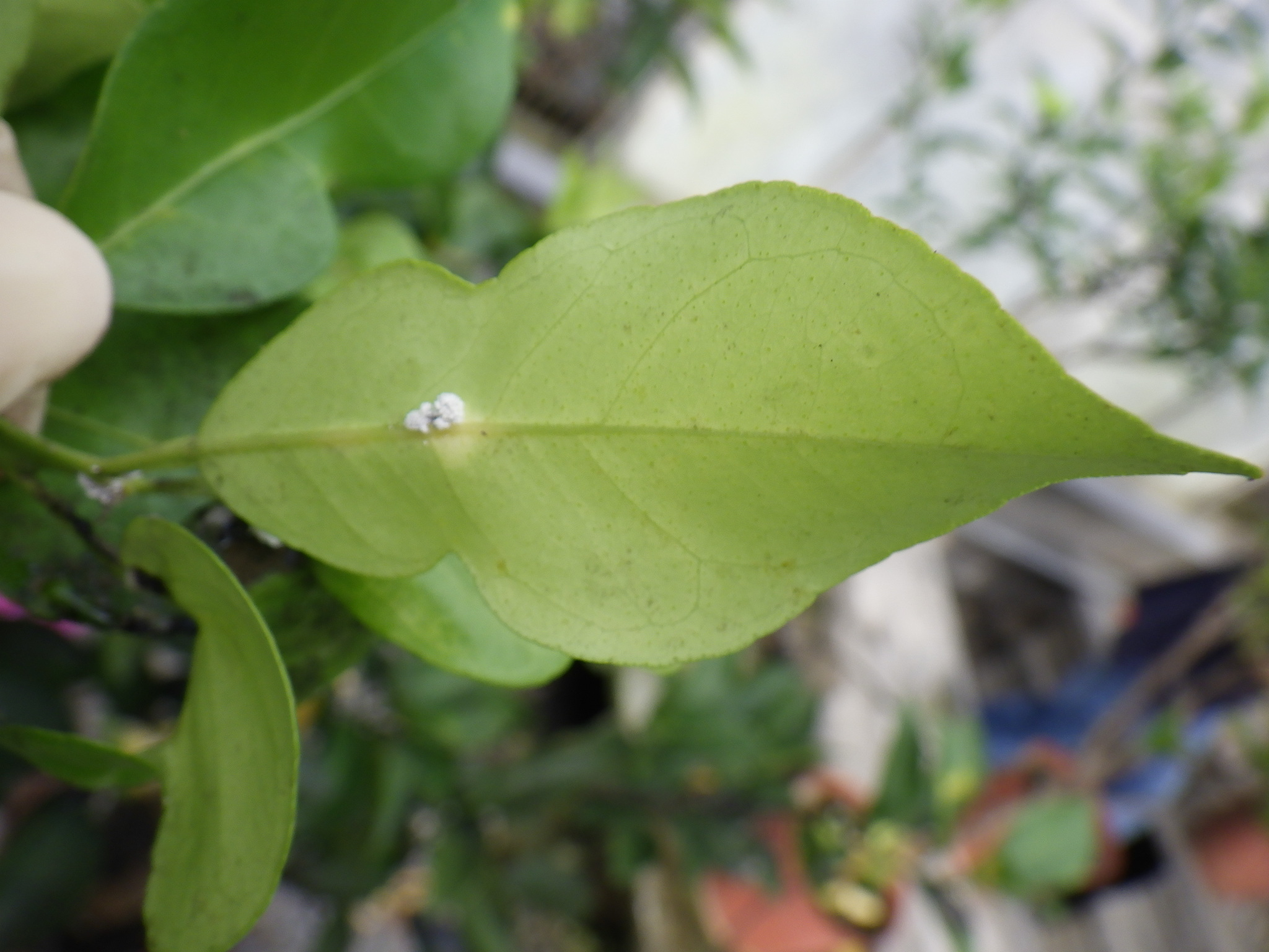Scale_Insect: (405, 392, 463, 433)
